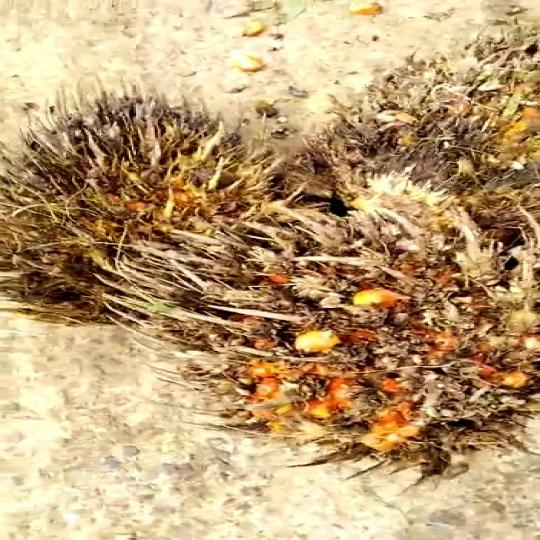terlalu masak: (124, 199, 540, 457), (0, 101, 339, 334)
